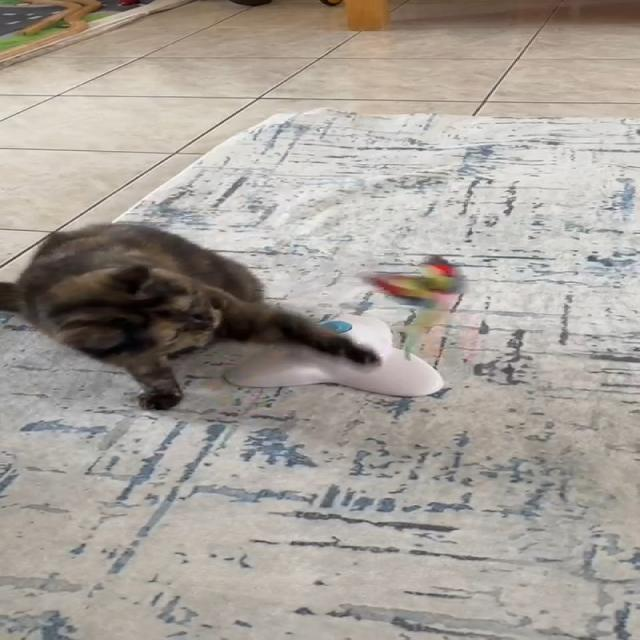authorized: (0, 221, 381, 410)
